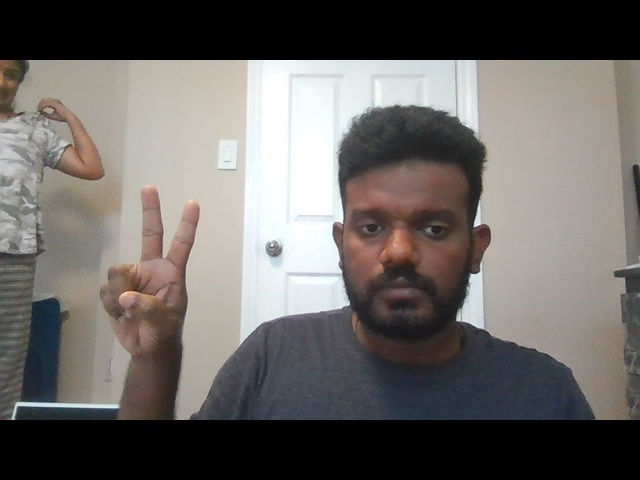peace: (96, 180, 204, 360)
